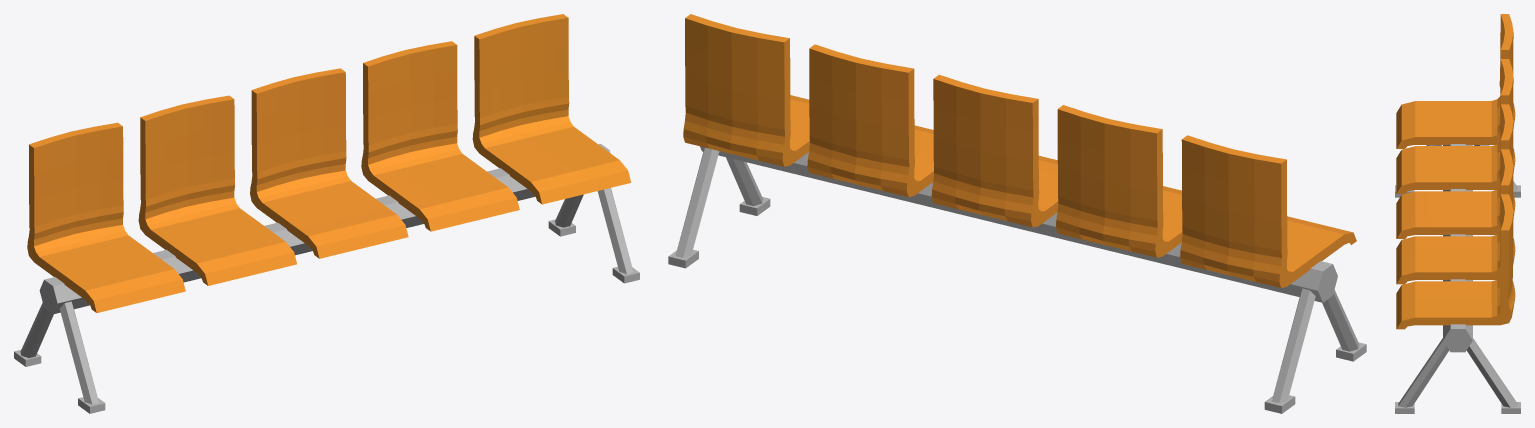
The model's file is BancoCutre.fbx.
3 renders of one model, left to right at view 1: azimuth 30°, elevation 25°; view 2: azimuth 150°, elevation 25°; view 3: azimuth 270°, elevation 25°, orthographic. The views are drawn at different scales.
Visible parts, largest first — view 1: Cylinder001; view 2: Cylinder001; view 3: Cylinder001.
Boxes of the visible parts, box(x1,y1,x2,y2) form: Cylinder001: box(14, 14, 639, 413); Cylinder001: box(668, 14, 1366, 413); Cylinder001: box(1395, 14, 1520, 413).
Bounding box in the file's own units: 250 × 93.25 × 58.99.
